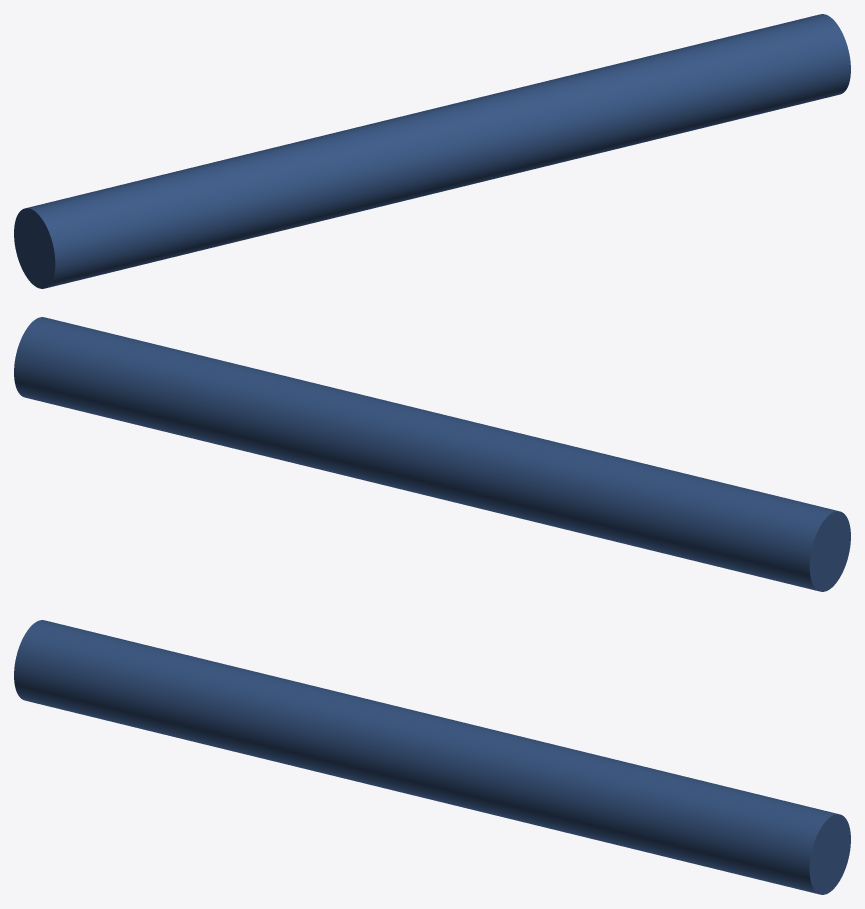
File: SpeedBump1.obj
The picture shows the model from 3 angles, top to bottom: view 1: azimuth 30°, elevation 25°; view 2: azimuth 150°, elevation 25°; view 3: azimuth 330°, elevation 25°; orthographic projection.
Visible parts, largest first — view 1: SpeedBump1; view 2: SpeedBump1; view 3: SpeedBump1.
Part boxes in pixels (box(x1,y1,x2,y2)): SpeedBump1: box(14, 14, 850, 288); SpeedBump1: box(14, 317, 850, 591); SpeedBump1: box(14, 620, 850, 894).
Bounding box in the file's own units: 1000 × 90 × 90.
